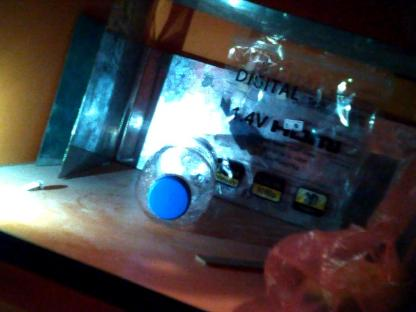Plastic Bottle: (134, 131, 224, 227)
